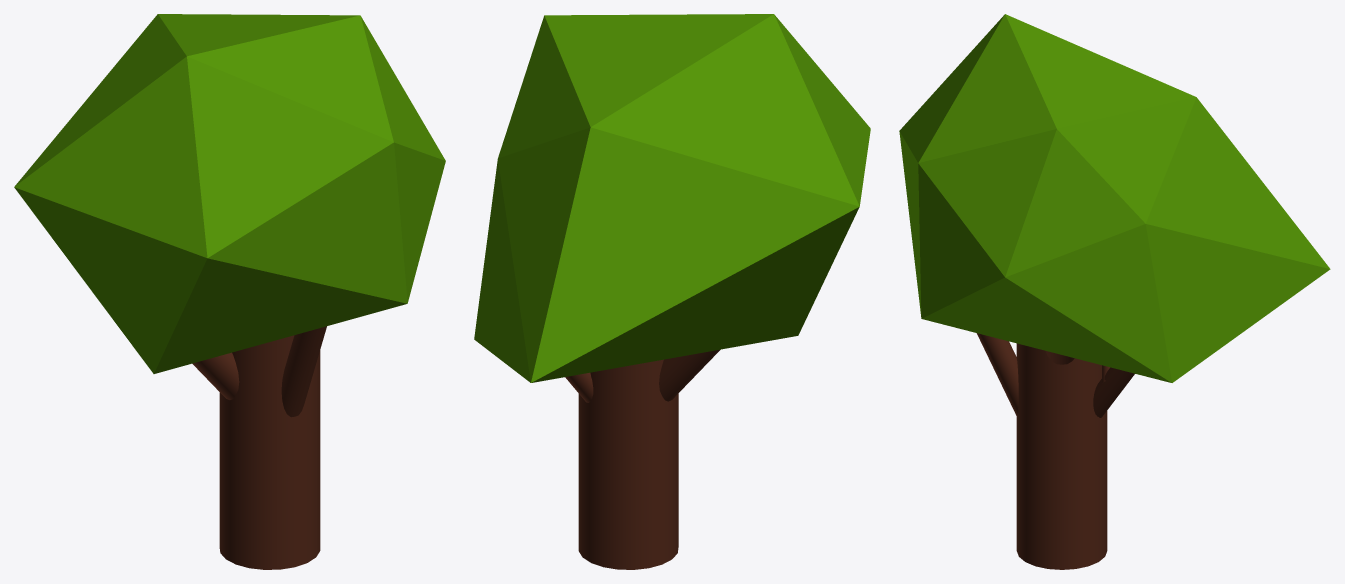
File: Tree 3.fbx
The picture shows the model from 3 angles, left to right: view 1: azimuth 30°, elevation 25°; view 2: azimuth 150°, elevation 25°; view 3: azimuth 270°, elevation 25°; orthographic projection. The views are drawn at different scales.
Visible parts, largest first — view 1: pPlatonic1, pCylinder1, pCylinder3, pCylinder5; view 2: pPlatonic1, pCylinder1, pCylinder5, pCylinder6; view 3: pPlatonic1, pCylinder1, pCylinder3, pCylinder6.
Boxes of the visible parts, left/top/right/bottom form: pPlatonic1: left=14, top=14, right=445, bottom=373; pCylinder1: left=219, top=335, right=320, bottom=569; pCylinder3: left=281, top=326, right=326, bottom=417; pCylinder5: left=192, top=352, right=239, bottom=400; pPlatonic1: left=474, top=14, right=870, bottom=382; pCylinder1: left=578, top=359, right=678, bottom=569; pCylinder5: left=659, top=349, right=720, bottom=401; pCylinder6: left=565, top=372, right=593, bottom=402; pPlatonic1: left=899, top=14, right=1330, bottom=382; pCylinder1: left=1016, top=343, right=1107, bottom=569; pCylinder3: left=976, top=333, right=1018, bottom=416; pCylinder6: left=1093, top=367, right=1134, bottom=417.
Size of the model in its own units: 8.86 by 11.84 by 9.51.
